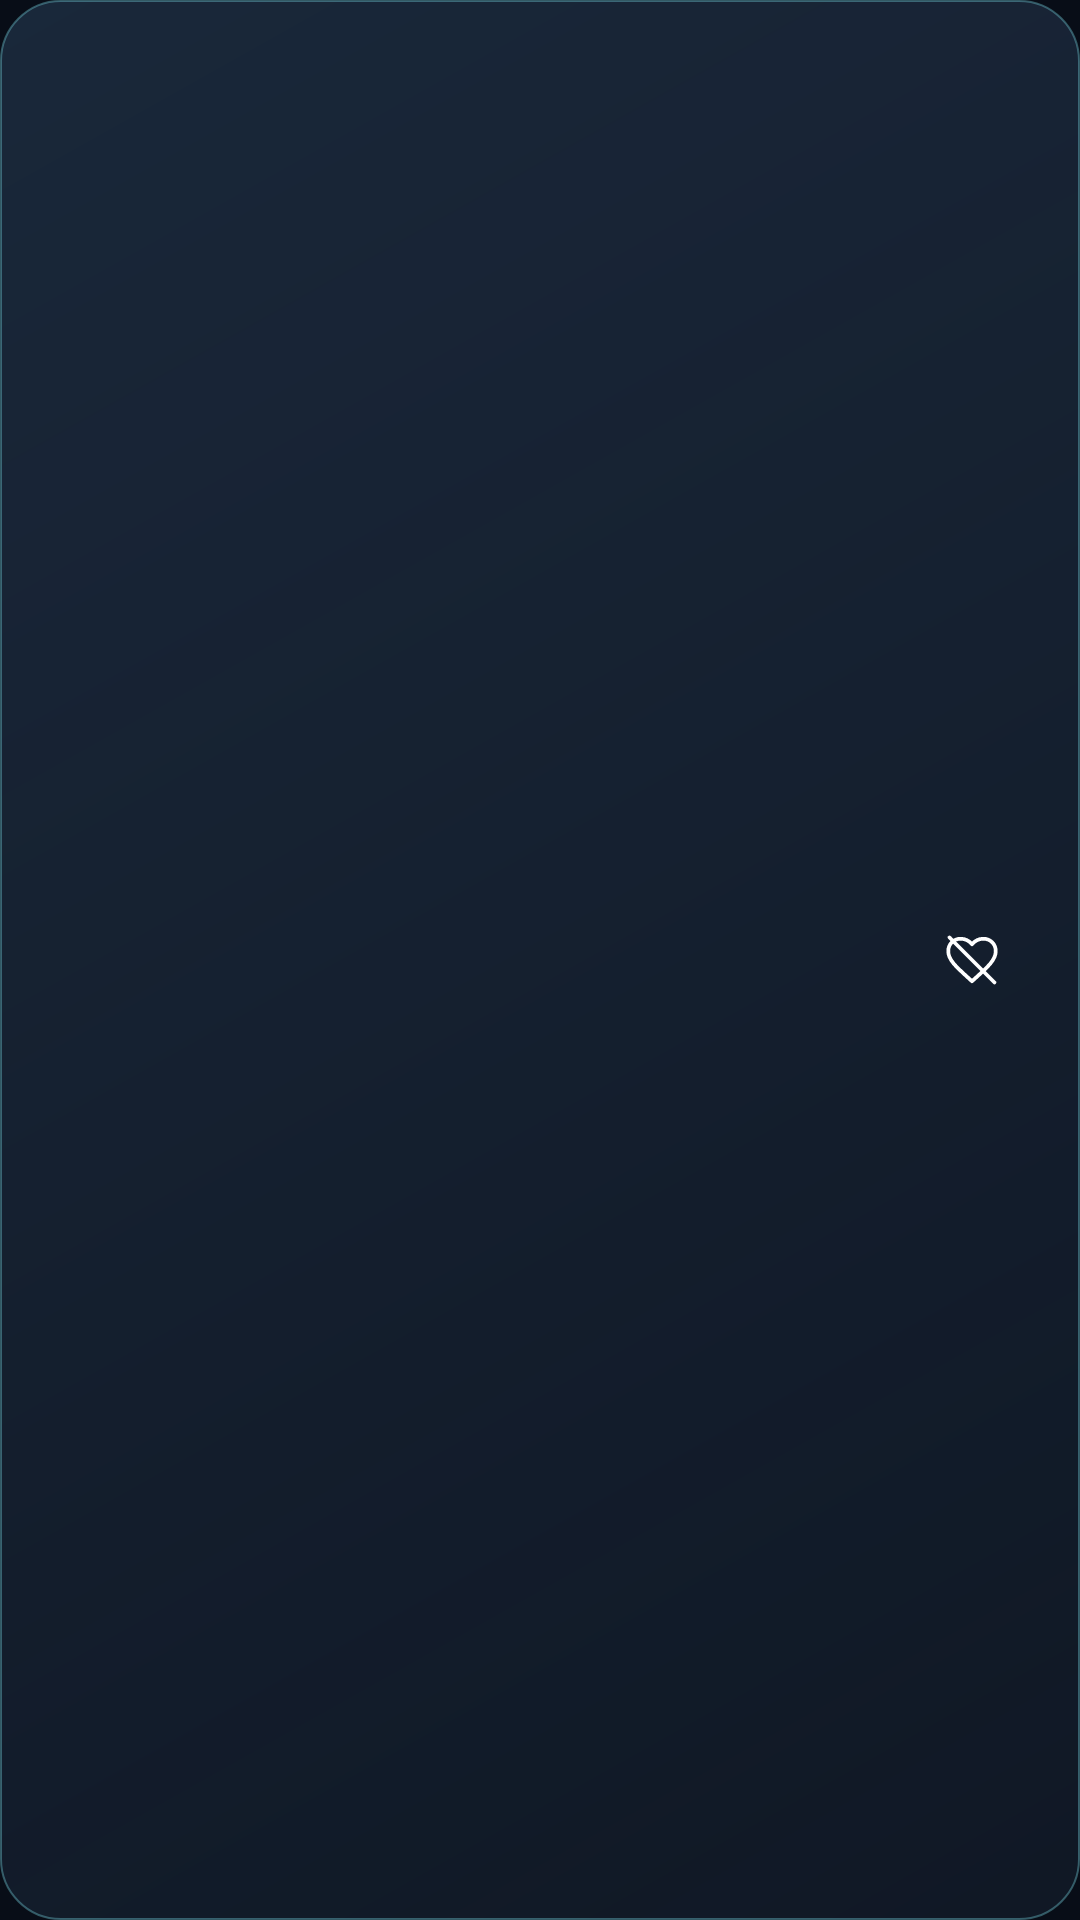

Icons on this 1080 x 1920 Android screen, each with the point to tap as [x,y]:
Remove from favorites: [972,960]
